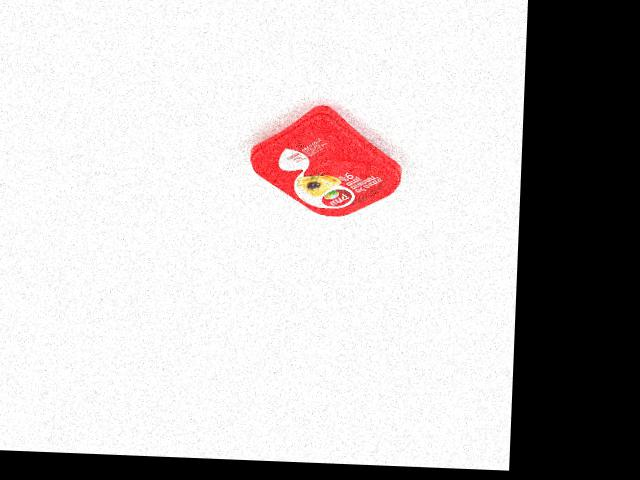cheese: (247, 101, 404, 219)
